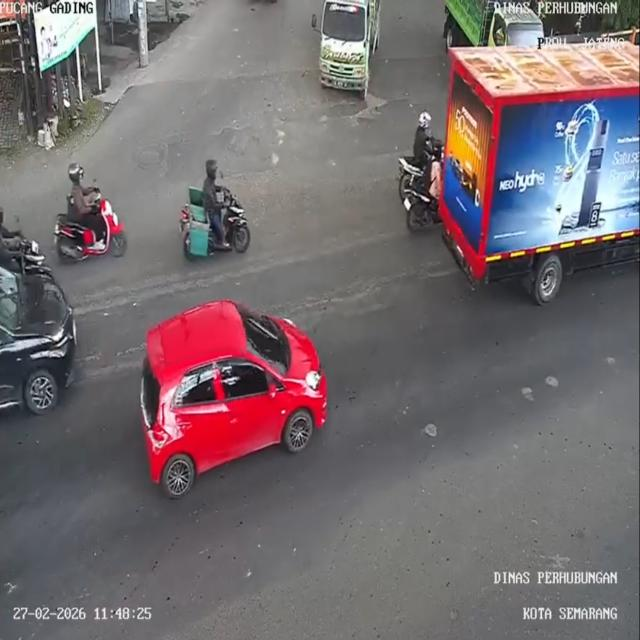motorcycle: (174, 190, 252, 265), (52, 201, 128, 269), (395, 154, 428, 202)
person: (61, 153, 104, 218), (197, 155, 230, 218), (408, 108, 432, 162)
rider_region: (175, 154, 254, 264), (53, 150, 128, 262), (393, 106, 434, 192)
